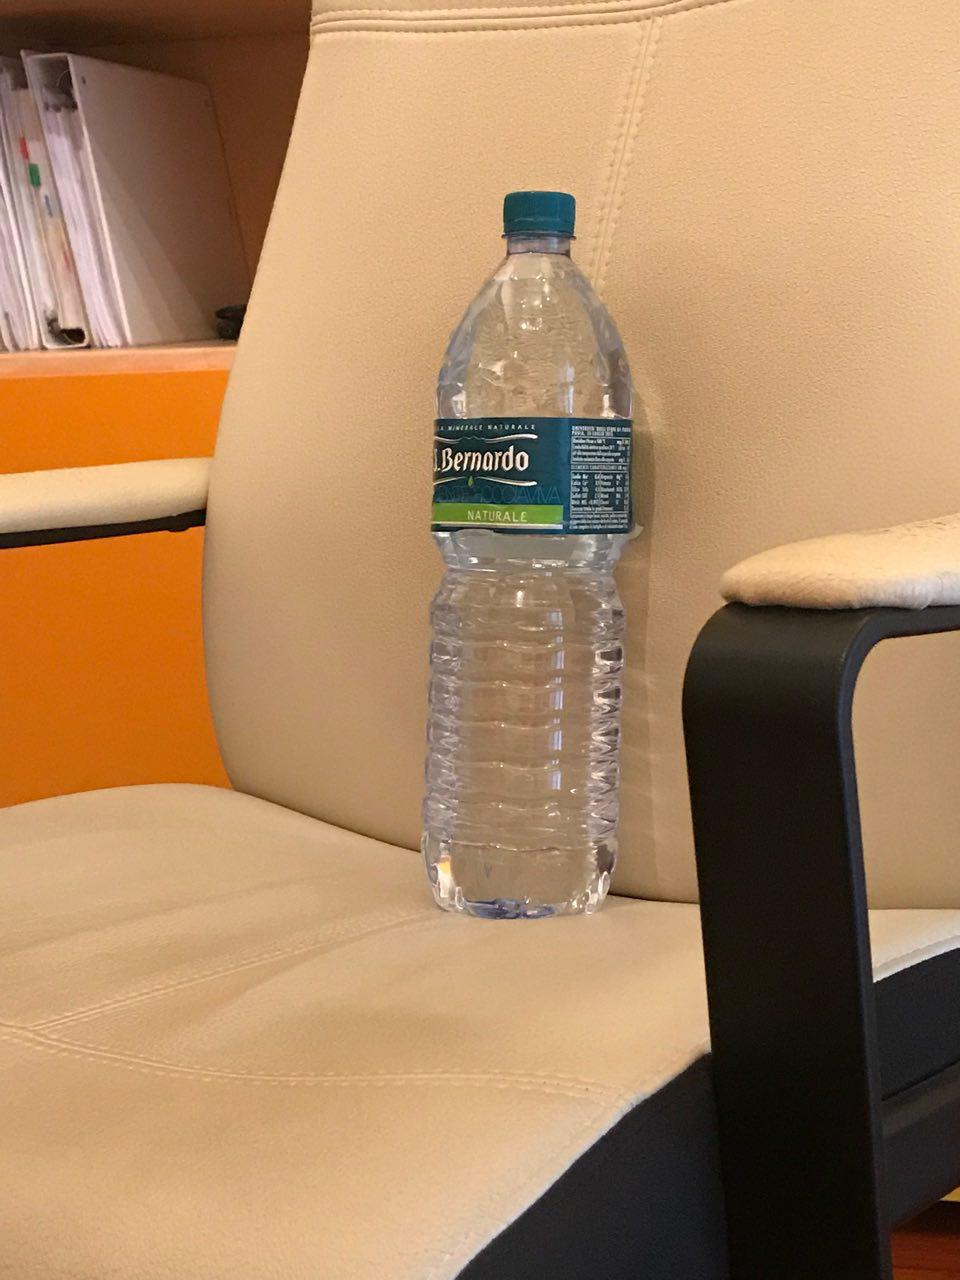san_bernardo: (419, 191, 633, 923)
